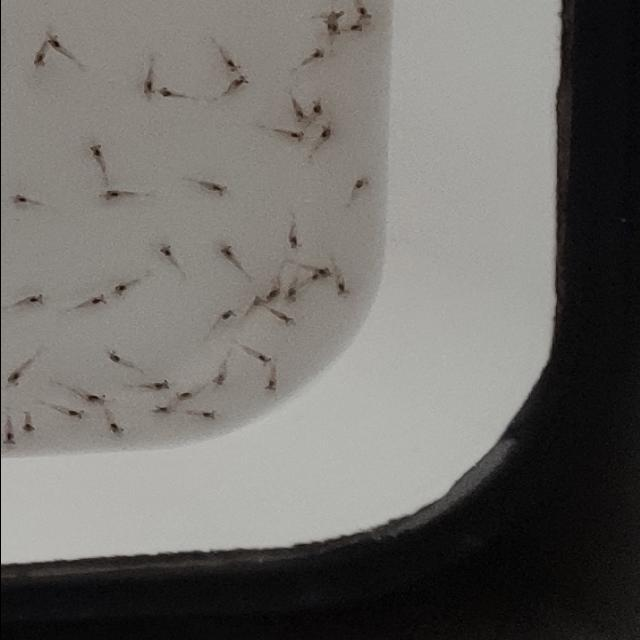shrimp-seed: (85, 392, 107, 408), (138, 80, 156, 98), (104, 350, 122, 366), (108, 282, 126, 298), (86, 142, 104, 158), (222, 57, 240, 73), (210, 371, 228, 387), (31, 49, 45, 69), (104, 422, 124, 436), (308, 98, 324, 115), (230, 74, 249, 88), (316, 124, 332, 140), (67, 406, 84, 421), (8, 192, 26, 206), (101, 188, 119, 202), (308, 47, 326, 61), (288, 130, 306, 144), (274, 311, 292, 325), (197, 408, 217, 420), (262, 378, 278, 393), (89, 292, 106, 306), (1, 432, 17, 446), (155, 242, 171, 256), (328, 8, 344, 22), (292, 109, 308, 123), (352, 176, 368, 190), (282, 288, 298, 302), (333, 282, 349, 296), (18, 423, 36, 435), (152, 379, 170, 391), (150, 404, 168, 416), (27, 292, 42, 306), (2, 373, 18, 386), (354, 8, 370, 21), (210, 183, 226, 196), (255, 354, 272, 366), (158, 86, 172, 100), (285, 234, 299, 248), (249, 296, 263, 310), (264, 288, 278, 302), (217, 244, 232, 257), (44, 34, 60, 46), (175, 391, 192, 402), (350, 22, 364, 34), (324, 24, 338, 36), (220, 308, 234, 320), (315, 270, 331, 280), (312, 266, 324, 278)
